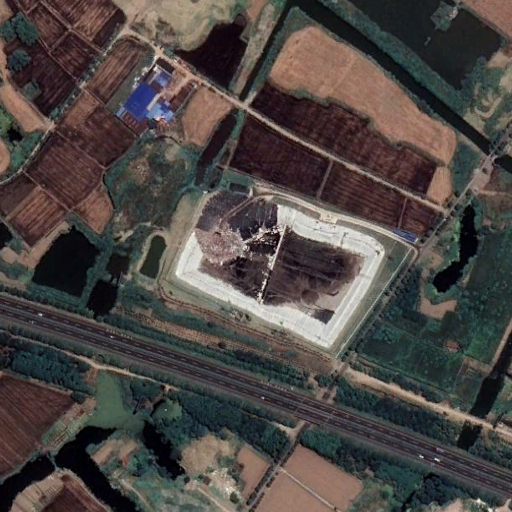lf: (176, 188, 385, 347)
